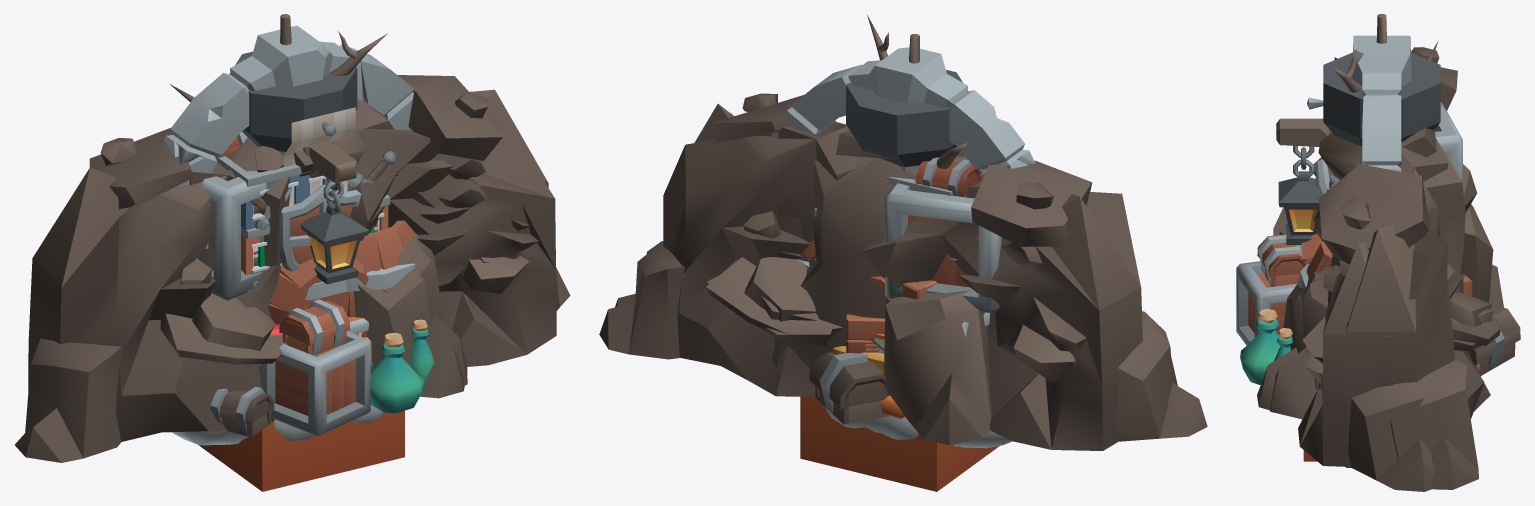
File: bibliothek.glb
The picture shows the model from 3 angles, left to right: view 1: azimuth 30°, elevation 25°; view 2: azimuth 150°, elevation 25°; view 3: azimuth 270°, elevation 25°; orthographic projection. The views are drawn at different scales.
Parts seen in each view (by area): view 1: rubble_large, box_stacked, rubble_half, arch, terrain_low, pillar_decorated, pillar, terrain_tall, post_lantern_lantern, terrain_low_curved, keg, city_building_H (+5 smaller); view 2: rubble_large, rubble_half, box_stacked, arch, terrain_low, terrain_tall, pillar, crates_stacked, cloud_big, tree_dead_large; view 3: rubble_half, rubble_large, box_stacked, arch, pillar, post_lantern_lantern, post_lantern, tree_dead_large, pillar_decorated, keg.
Boxes of the visible parts, box(x1,y1,x2,y2) form: rubble_large: box(15, 114, 570, 462); box_stacked: box(202, 131, 433, 437); rubble_half: box(346, 75, 548, 385); arch: box(164, 25, 414, 249); terrain_low: box(221, 411, 404, 491); pillar_decorated: box(249, 107, 396, 271); pillar: box(229, 51, 357, 155); terrain_tall: box(221, 364, 404, 491); post_lantern_lantern: box(300, 178, 369, 284); terrain_low_curved: box(198, 412, 404, 474); keg: box(268, 258, 368, 337); city_building_H: box(218, 156, 327, 290); rubble_large: box(615, 113, 1207, 450); rubble_half: box(599, 93, 858, 396); box_stacked: box(795, 157, 1001, 424); arch: box(770, 47, 1035, 179); terrain_low: box(800, 397, 999, 491); terrain_tall: box(800, 334, 998, 491); pillar: box(846, 70, 968, 172); crates_stacked: box(846, 280, 936, 353); cloud_big: box(824, 406, 1011, 448); tree_dead_large: box(867, 15, 969, 168); rubble_half: box(1269, 146, 1500, 489); rubble_large: box(1257, 47, 1503, 491); box_stacked: box(1236, 102, 1520, 384); arch: box(1352, 35, 1411, 171); pillar: box(1323, 52, 1440, 145); post_lantern_lantern: box(1278, 145, 1321, 244); post_lantern: box(1276, 118, 1331, 146); tree_dead_large: box(1332, 14, 1438, 92); pillar_decorated: box(1307, 97, 1339, 241); keg: box(1301, 233, 1321, 264).
Size of the model in its own units: 8.13 by 5.79 by 3.63.
Materials: 15 (15 with a texture image).
